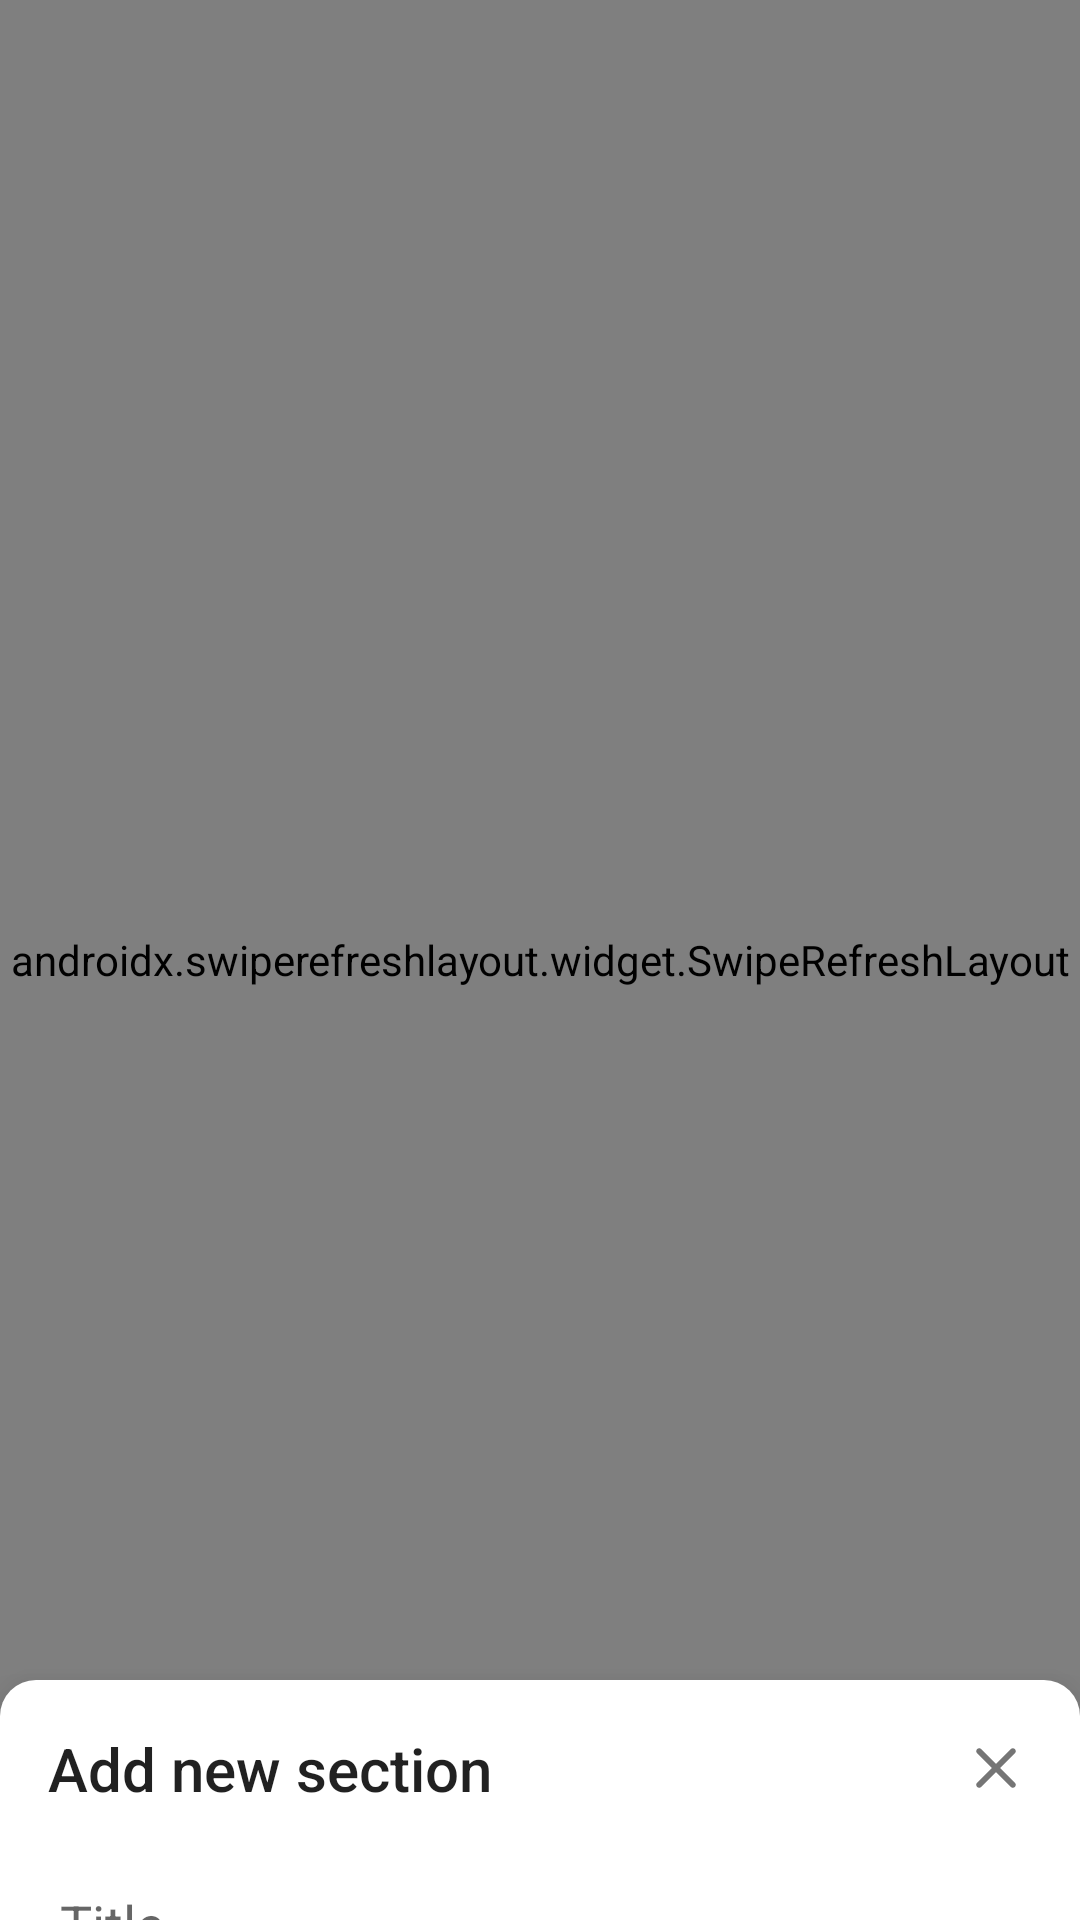

Icon click points for this 1080×1920 phone screenshot, format (x=x, y=y):
close: (x=996, y=1768)
